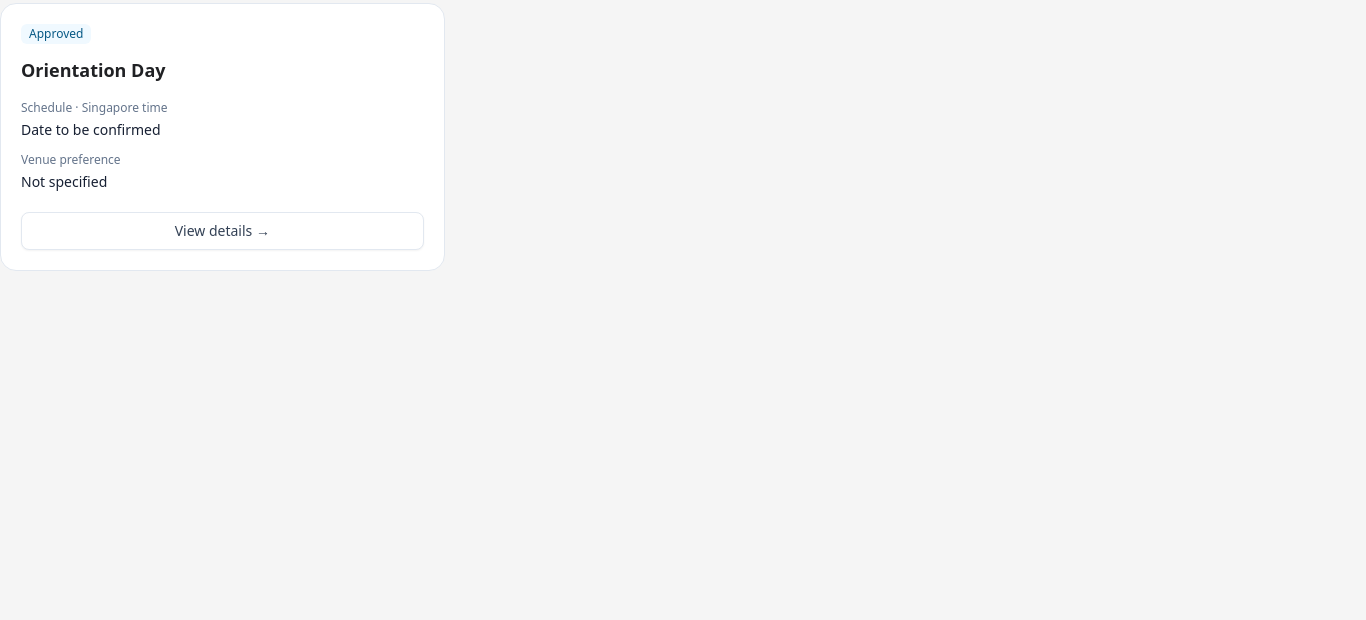
Test case: SCRUM-37 propose a significant change › AC1, AC3, AC5: sends only what changed and lists it next to the current value
Click the button with aria-label "View details for Orientation Day": coordinates (222, 231) [21, 212, 424, 250]
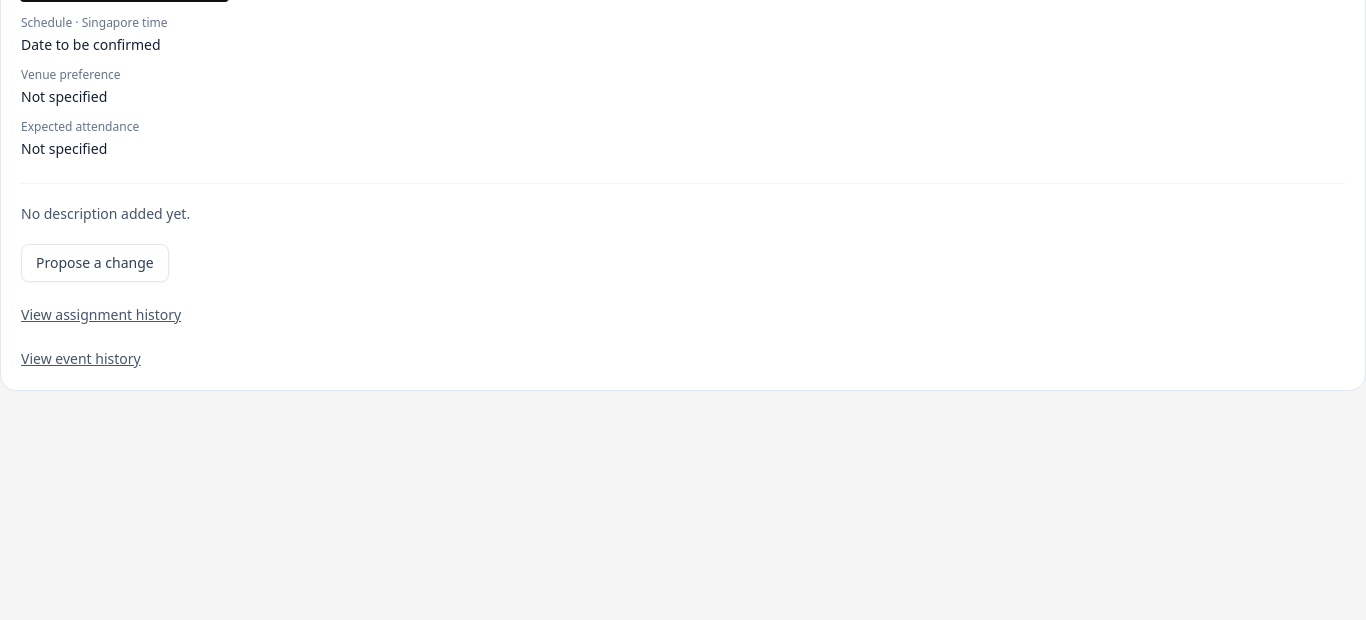
Click the button with aria-label "Propose a change to Orientation Day": coordinates (95, 263) [21, 244, 169, 282]
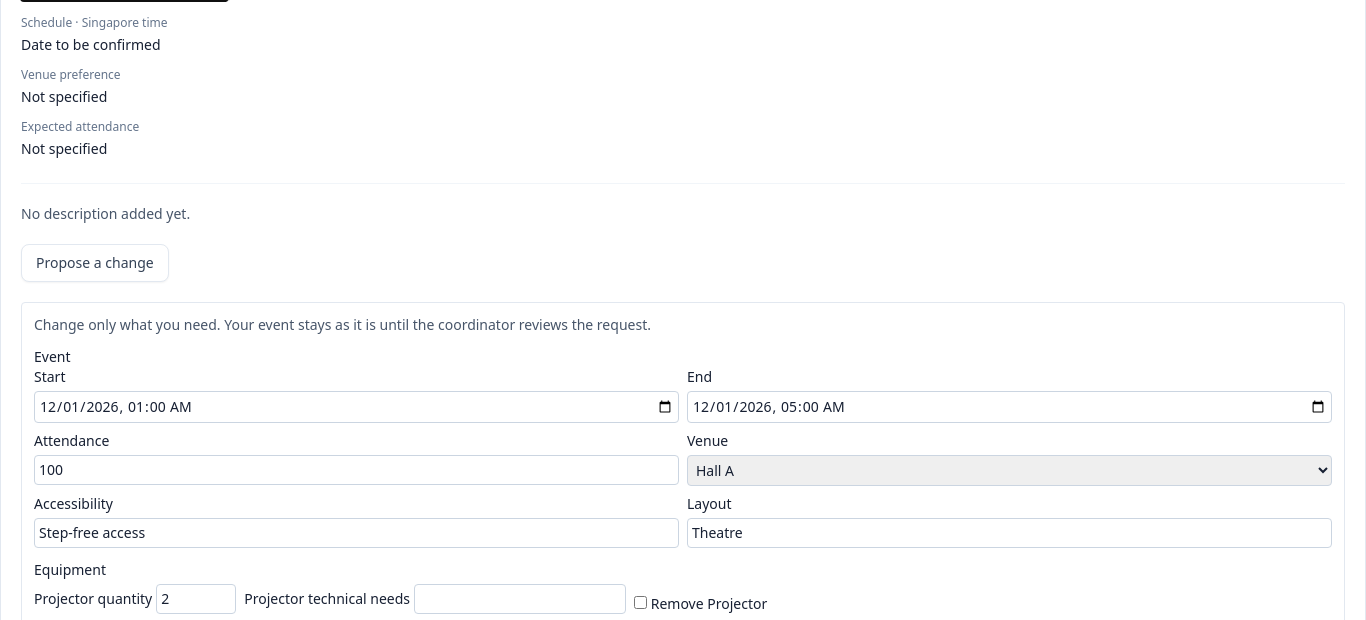
Replace the text in the number field labelled "Attendance" with "150": coordinates (356, 470) [34, 455, 679, 485]
(page scrolled)
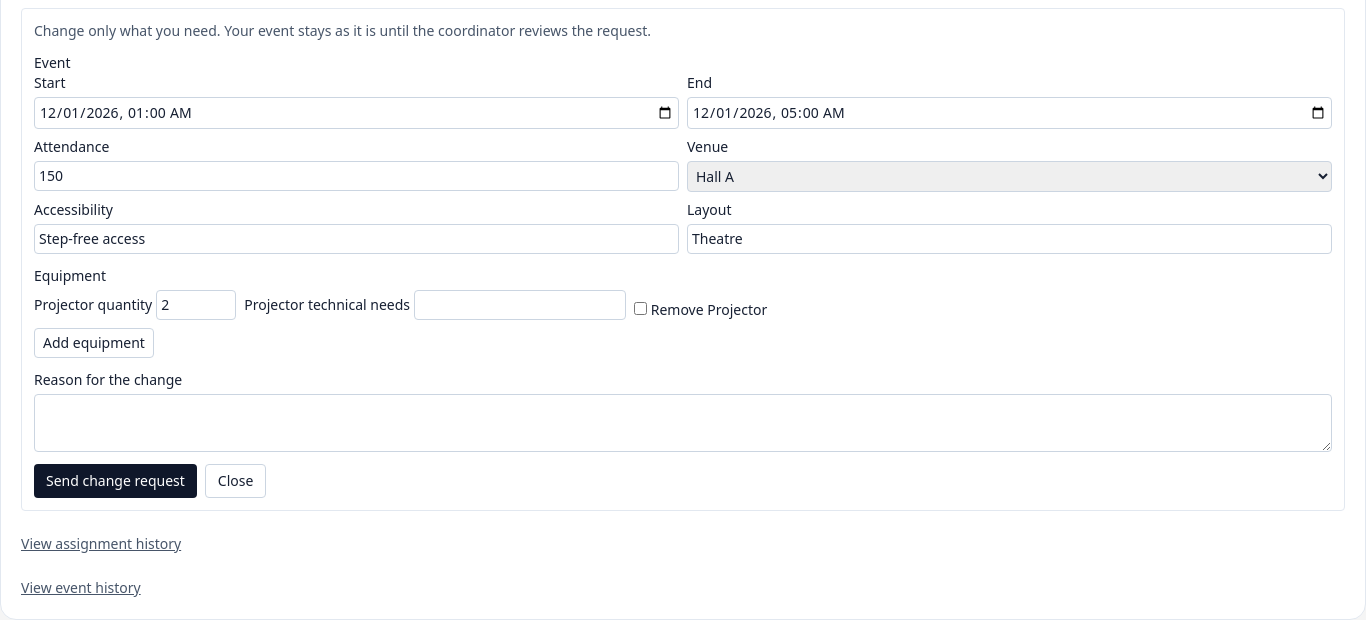
In the text box labelled "Reason for the change": coordinates (683, 423) [34, 394, 1332, 452], type "More people signed up"
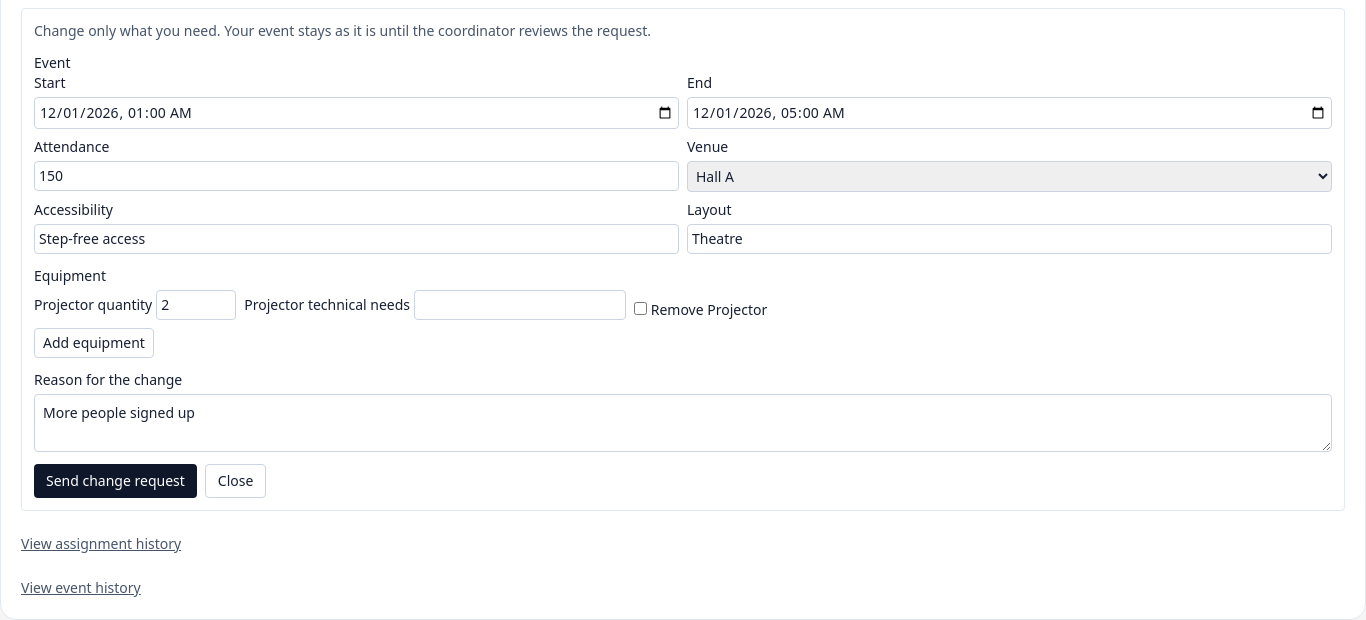
Click the button "Send change request": coordinates (115, 481) [34, 464, 197, 498]
(page scrolled)
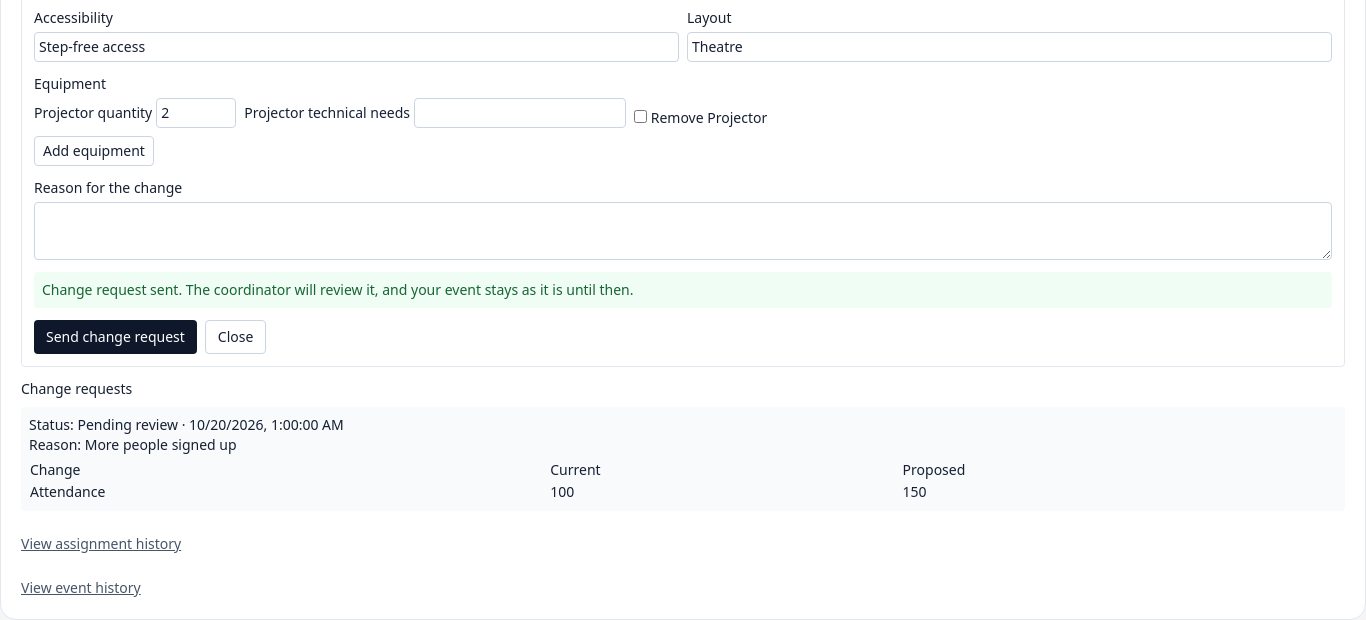
Now the message shows "your event stays as it is until then", box [42, 280, 634, 299]
Now the text "Pending review" is shown, box [77, 415, 178, 434]
Now the text "100" is shown, box [549, 481, 902, 503]
